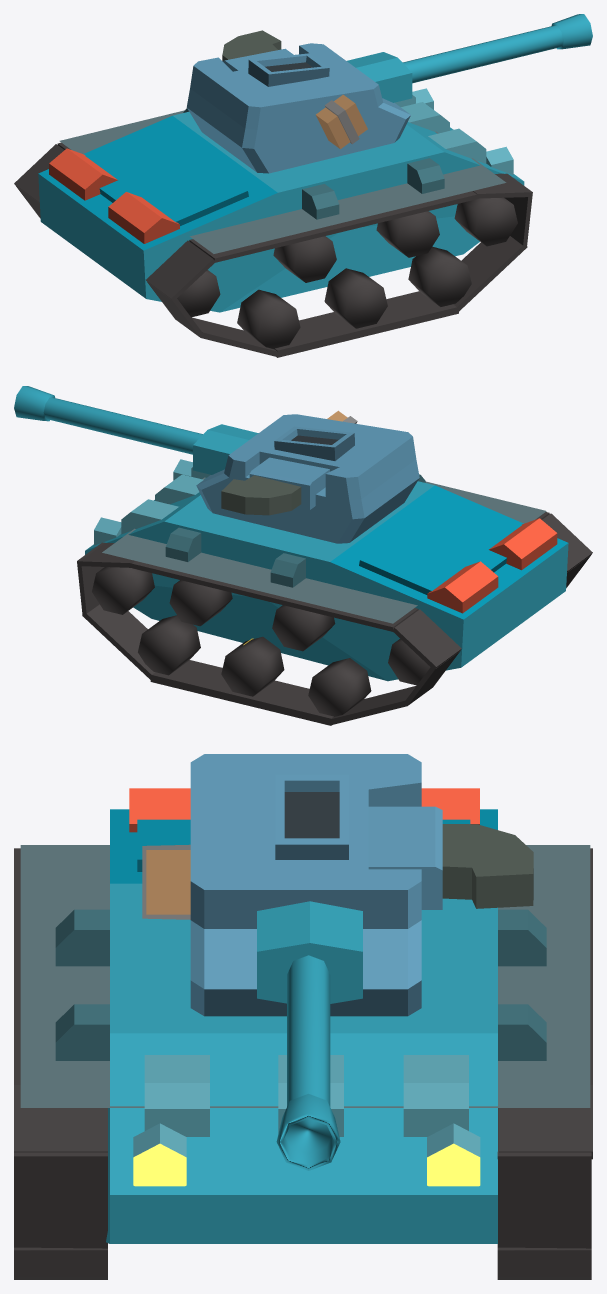
Rendered from predator.glb.
3 renders of one model, top to bottom at view 1: azimuth 30°, elevation 25°; view 2: azimuth 150°, elevation 25°; view 3: azimuth 270°, elevation 25°, orthographic. The views are drawn at different scales.
Parts seen in each view (by area): view 1: Cube, Cube.020, Plane, Cylinder.018, Cube.007, Cube.002, Cylinder.010, Cylinder.009, Cylinder.011, Cylinder.014, Cylinder.003, Cube.001 (+18 smaller); view 2: Cube, Cube.020, Plane, Cylinder.018, Cube.012, Cylinder.001, Cylinder.007, Cylinder.002, Cylinder.019, Cube.005, Cylinder.005, Cylinder (+17 smaller); view 3: Cube, Cube.020, Plane, Cylinder.018, Cube.016, Cube.011, Cube.021, Cylinder.019, Cube.023, Cube.022, Cube.019, Cube.017 (+12 smaller).
Part boxes in pixels (x1,y1,x2,y2): Cube: [38, 111, 524, 312]; Cube.020: [186, 43, 410, 173]; Plane: [59, 106, 506, 253]; Cylinder.018: [403, 14, 592, 83]; Cube.007: [274, 291, 458, 357]; Cube.002: [189, 191, 477, 262]; Cylinder.010: [324, 268, 387, 328]; Cylinder.009: [237, 289, 300, 349]; Cylinder.011: [408, 246, 471, 306]; Cylinder.014: [454, 197, 517, 246]; Cylinder.003: [108, 192, 179, 243]; Cube.001: [146, 240, 215, 300]; Cube: [85, 478, 568, 681]; Cube.020: [196, 414, 419, 543]; Plane: [102, 477, 546, 623]; Cylinder.018: [14, 386, 202, 454]; Cube.012: [150, 660, 333, 725]; Cylinder.001: [221, 636, 284, 696]; Cylinder.007: [308, 658, 371, 716]; Cylinder.002: [138, 615, 200, 675]; Cylinder.019: [221, 475, 301, 515]; Cube.005: [132, 561, 418, 631]; Cylinder.005: [92, 567, 154, 614]; Cylinder: [427, 561, 498, 613]; Cube: [106, 809, 497, 1243]; Cube.020: [190, 754, 442, 1016]; Plane: [20, 845, 590, 1107]; Cylinder.018: [276, 955, 340, 1170]; Cube.016: [497, 1151, 591, 1250]; Cube.011: [14, 1152, 107, 1250]; Cube.021: [257, 901, 362, 1003]; Cylinder.019: [442, 824, 533, 908]; Cube.023: [55, 909, 546, 966]; Cube.022: [55, 1004, 546, 1060]; Cube.019: [403, 1055, 468, 1136]; Cube.017: [144, 1055, 209, 1136].
Size of the model in its own units: 12.27 by 5.13 by 6.76.
3 materials, 1 textured.
